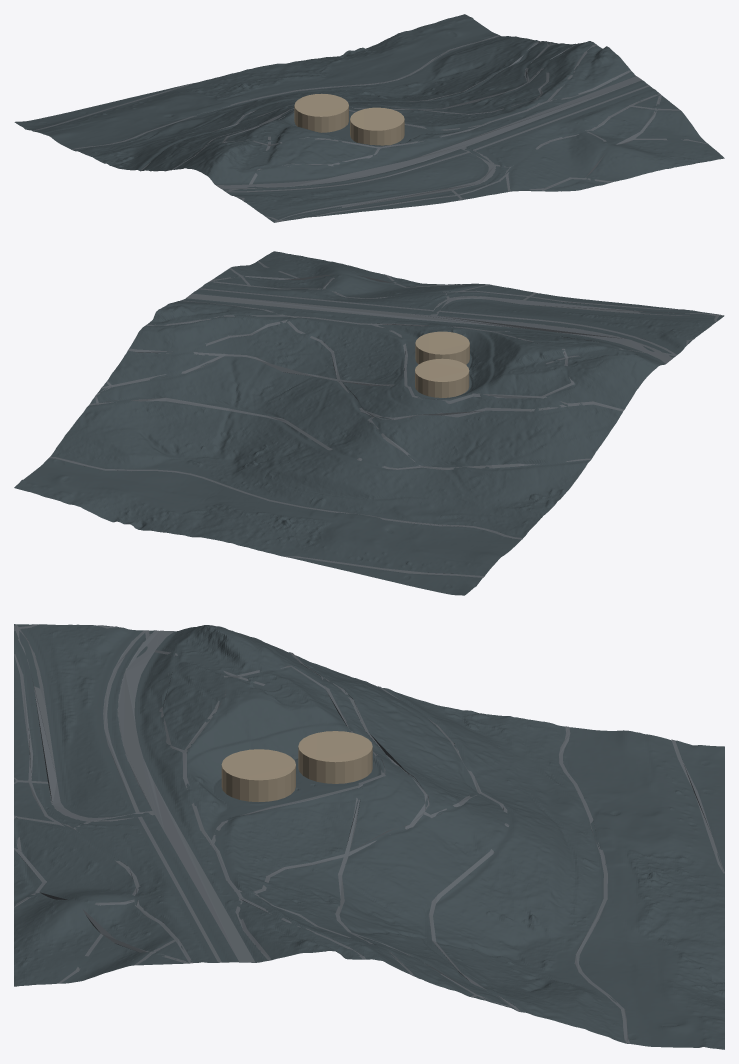
The model's file is epsg26910-1435-10871.lod0.glb.
The picture shows the model from 3 angles, top to bottom: view 1: azimuth 30°, elevation 25°; view 2: azimuth 150°, elevation 25°; view 3: azimuth 270°, elevation 25°; orthographic projection. The views are drawn at different scales.
Visible parts, largest first — view 1: epsg26910-1435-10871-lod0; view 2: epsg26910-1435-10871-lod0; view 3: epsg26910-1435-10871-lod0.
Boxes of the visible parts, <box> form: epsg26910-1435-10871-lod0: <box>14,14,724,222</box>; epsg26910-1435-10871-lod0: <box>14,251,724,595</box>; epsg26910-1435-10871-lod0: <box>14,624,724,1049</box>.
Bounding box in the file's own units: 384 × 91.71 × 384.
